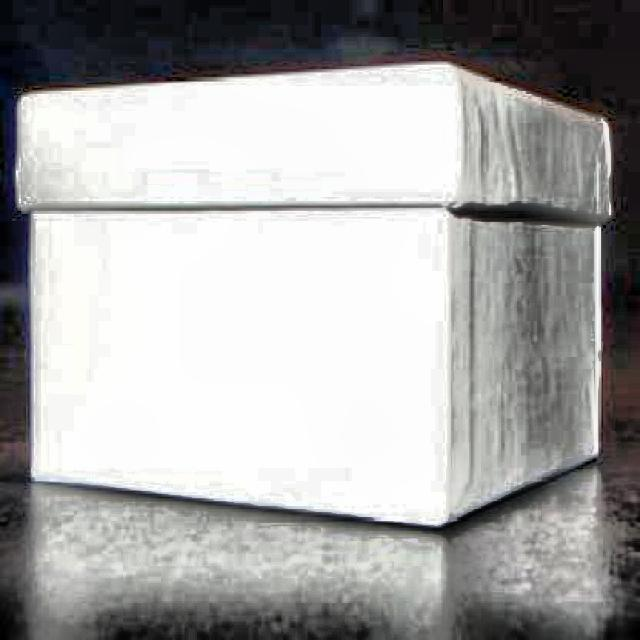Cardbox: (6, 56, 628, 534)
